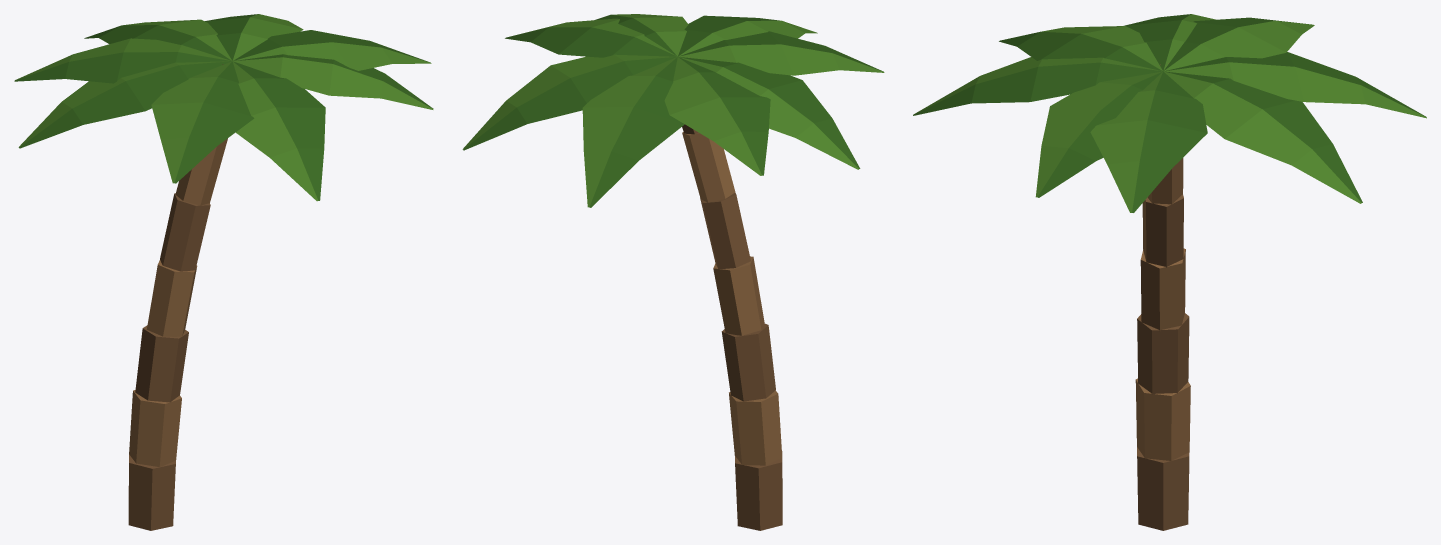
Rendered from palm.glb.
The picture shows the model from 3 angles, left to right: view 1: azimuth 30°, elevation 25°; view 2: azimuth 150°, elevation 25°; view 3: azimuth 270°, elevation 25°; orthographic projection. The views are drawn at different scales.
Parts seen in each view (by area): view 1: palm2; view 2: palm2; view 3: palm2.
Part boxes in pixels (x1,y1,x2,y2): palm2: [14, 14, 433, 530]; palm2: [462, 14, 884, 530]; palm2: [913, 14, 1426, 530].
Bounding box in the file's own units: 5.14 × 5.74 × 5.36.
